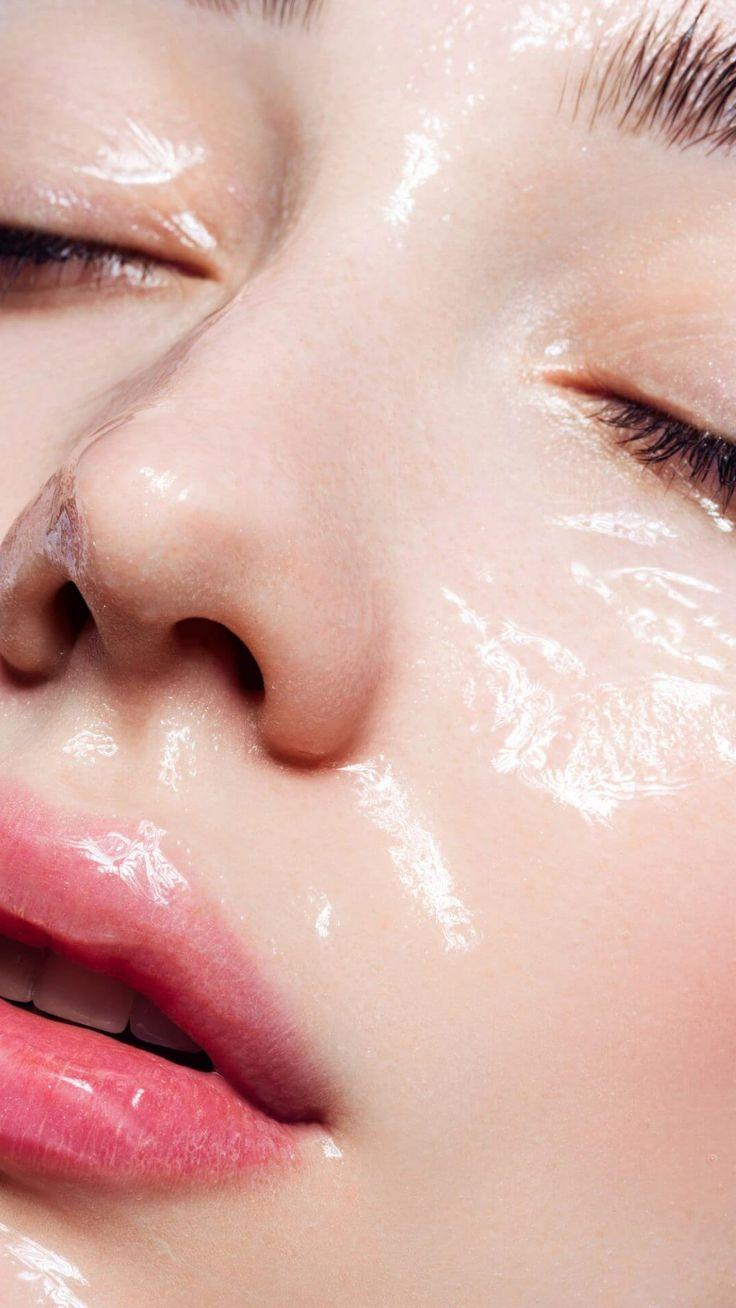Oily-Skin: (452, 627, 651, 804), (362, 92, 497, 301), (72, 397, 224, 564), (82, 82, 248, 217), (102, 797, 254, 944)
